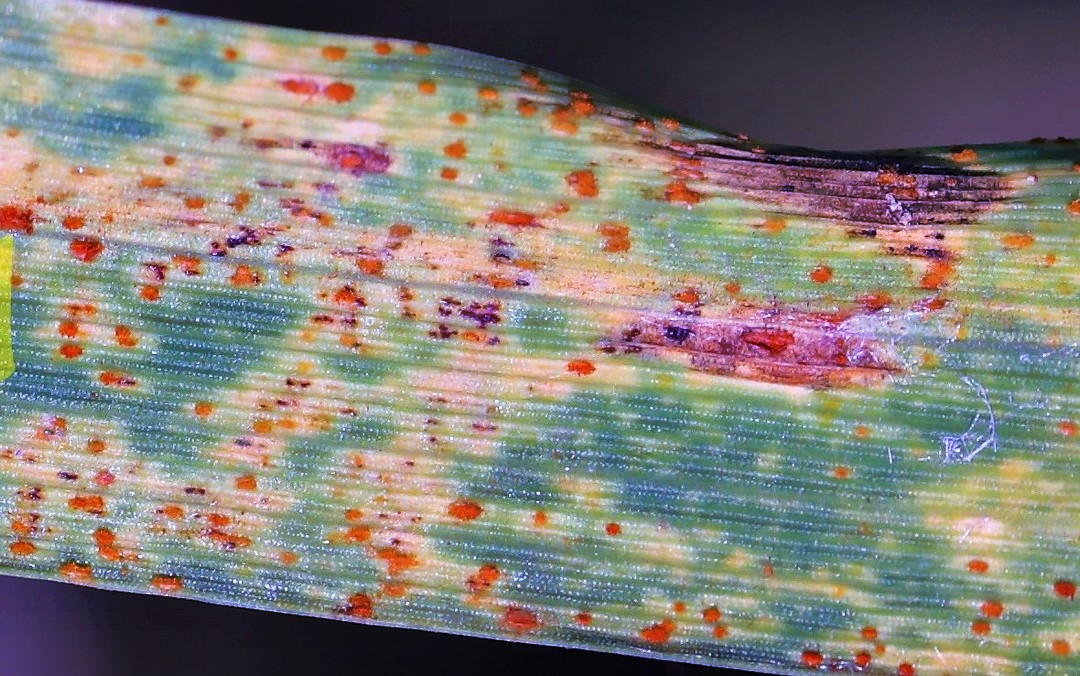Leaf Rust: (28, 57, 876, 647)
